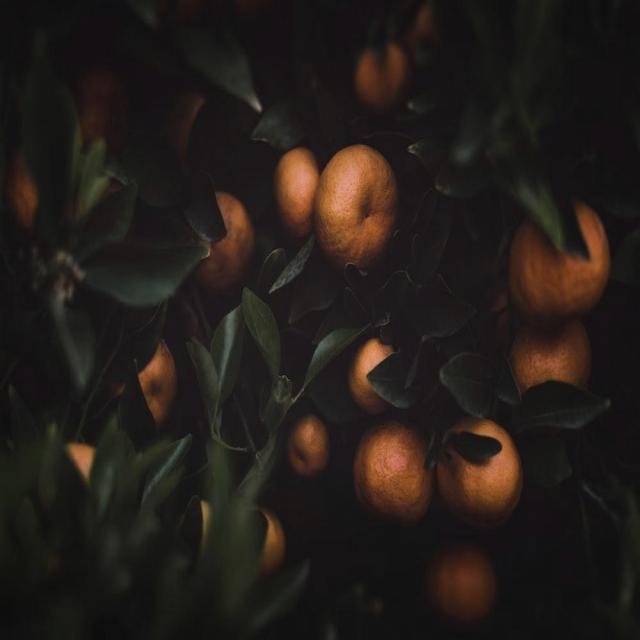Jeruk Sudah Matang: (506, 196, 614, 314), (314, 145, 398, 265), (435, 421, 522, 531), (353, 419, 435, 519), (424, 542, 502, 630), (502, 321, 592, 396), (205, 192, 258, 290), (128, 340, 180, 430), (346, 334, 399, 409), (282, 410, 332, 480), (275, 147, 317, 230)
